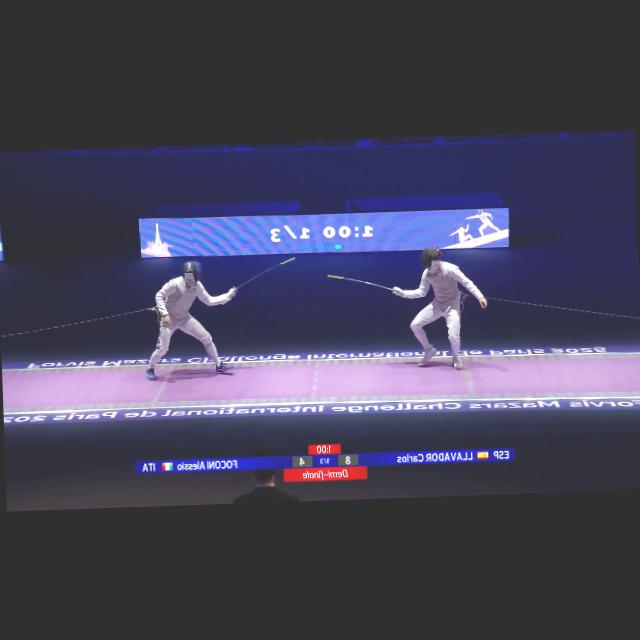blade: (228, 254, 301, 294), (320, 271, 402, 298)
